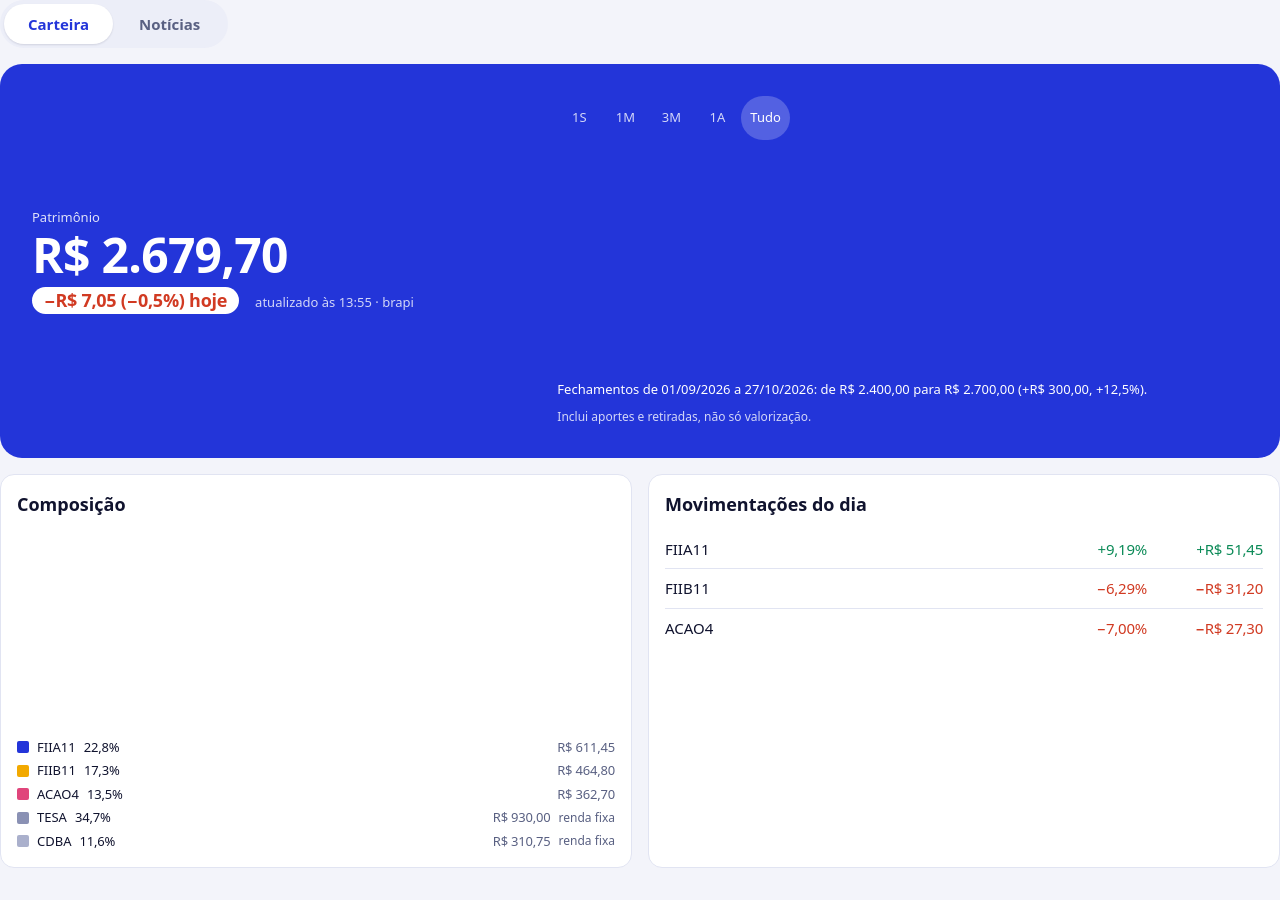
Scenario: Início: evolução do patrimônio › resumo em texto: período, valores e variação
Click the button "1S". click: [579, 118]
box: [557,96,601,140]
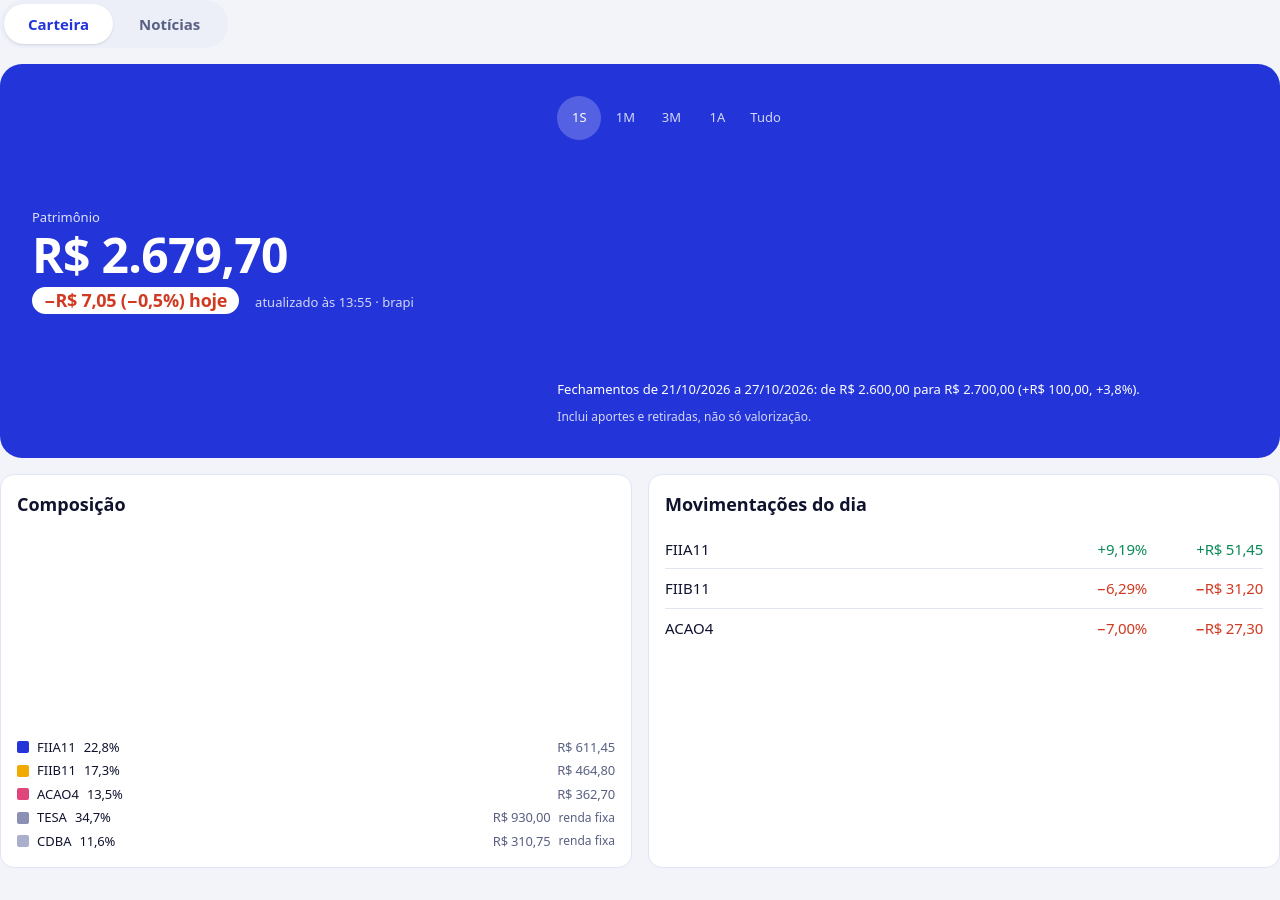
Result: the text with test id "resumo-evolucao" shows "21/10/2026" at [557,380,1140,398]
Result: the text with test id "resumo-evolucao" shows "R$ 2.600,00" at [557,380,1140,398]
Result: the text with test id "resumo-evolucao" shows "+R$ 100,00" at [557,380,1140,398]
